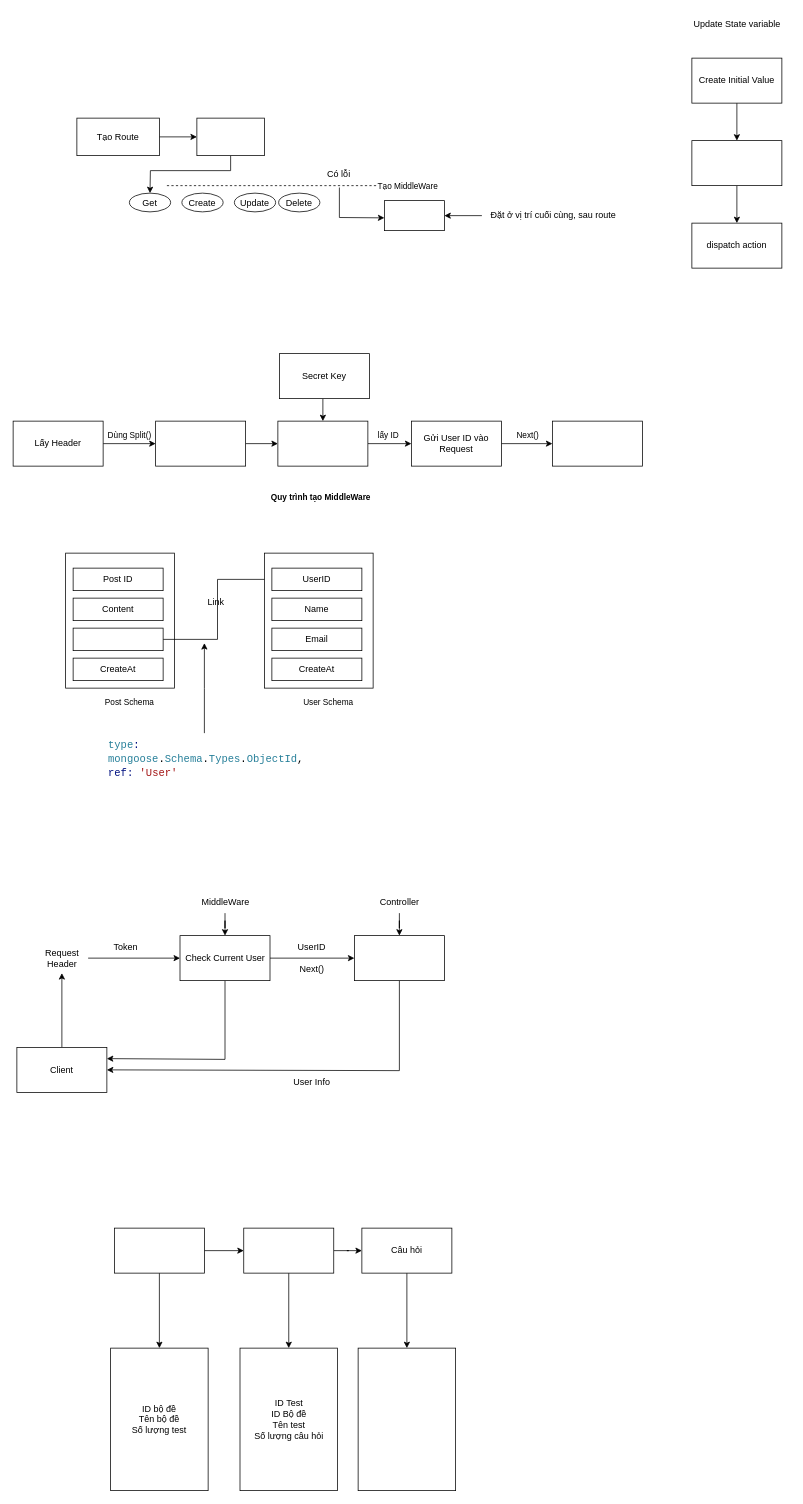
Image size: 803x1504. Some labels were removed from this diagram. Each missing label, with the centre of its shape:
Author: (117,639)
Bộ đề: (159,1250)
Chuyển sang Fuction tiếp theo: (597,443)
Error Handle: (414,215)
Get Current User: (399,958)
ID câu hỏi ID bộ đề Tên câu hỏi Đáp án Loại câu hỏi: (406,1419)
Import App context: (736,163)
Lấy token từ Header: (200,443)
Test: (288,1250)
Tạo controller: (230,136)
Verify Token: (322,443)
